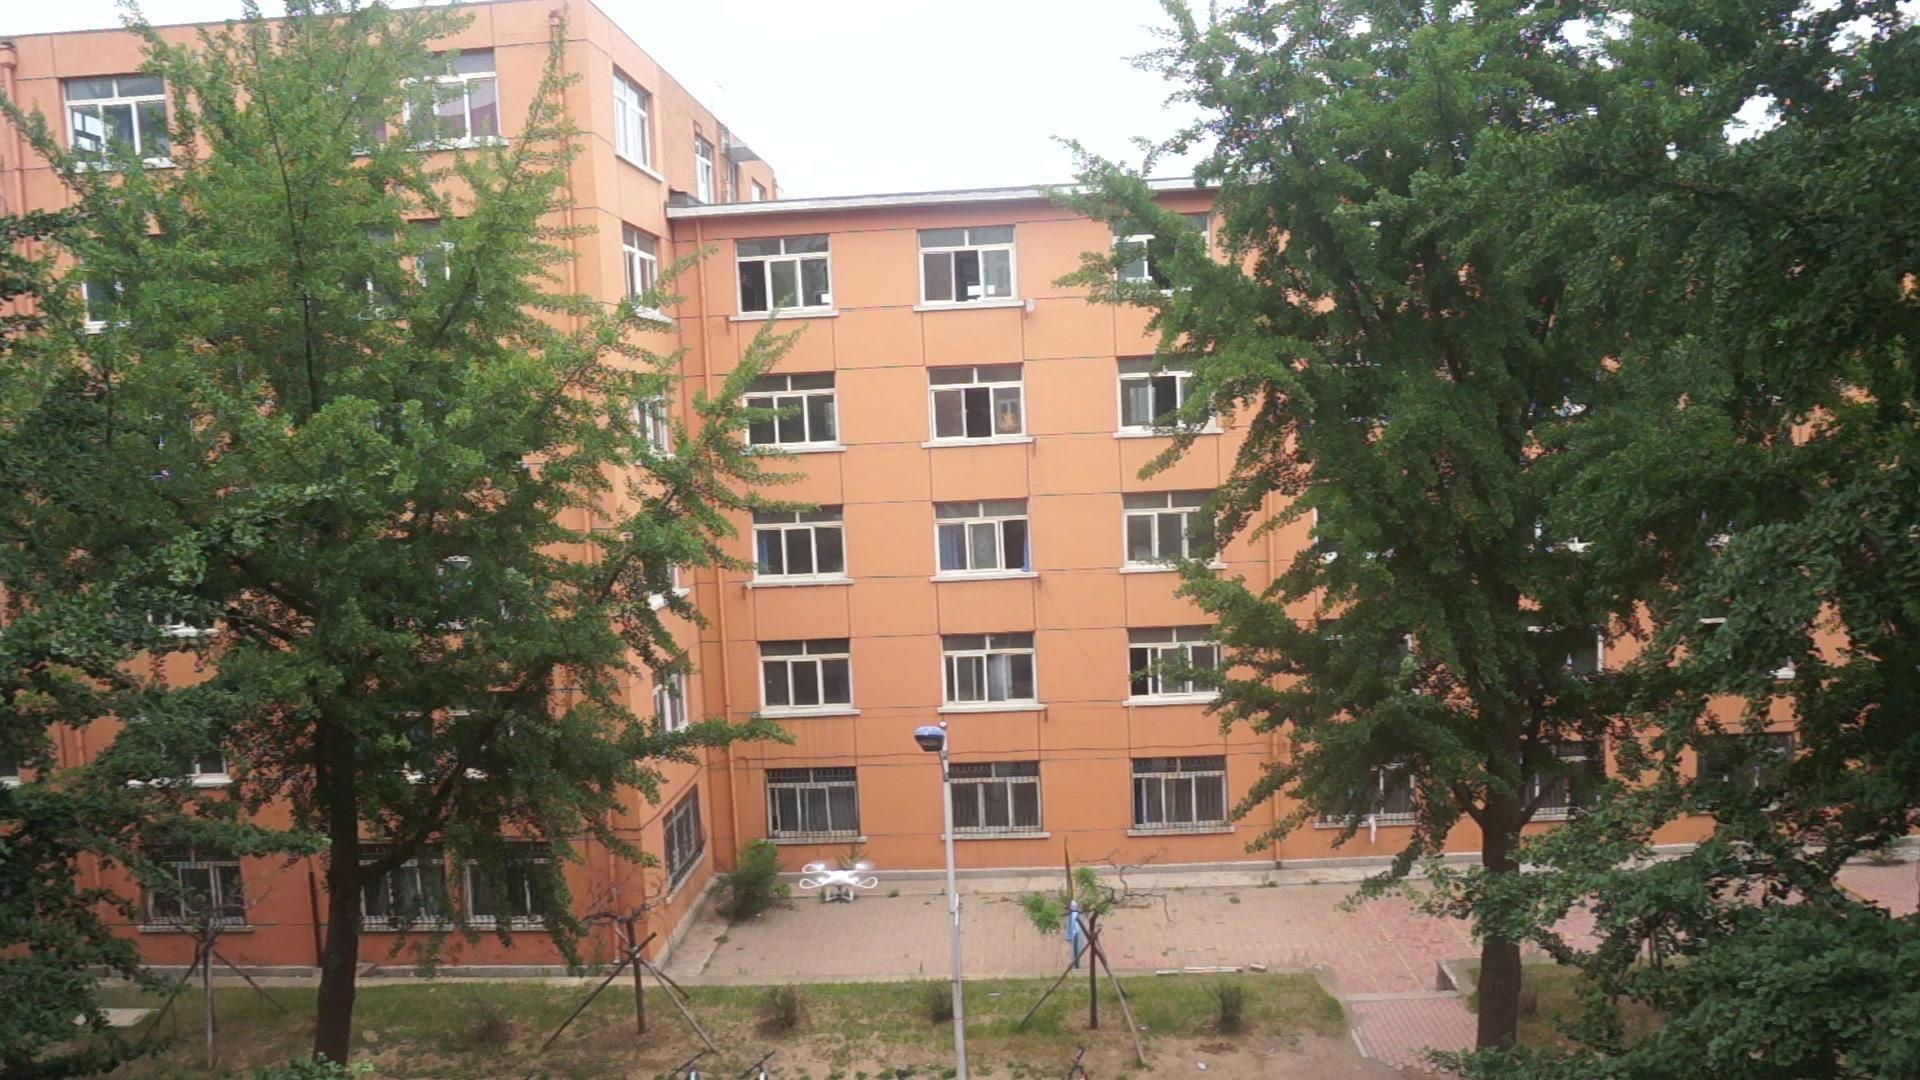UAV: (799, 861, 880, 903)
